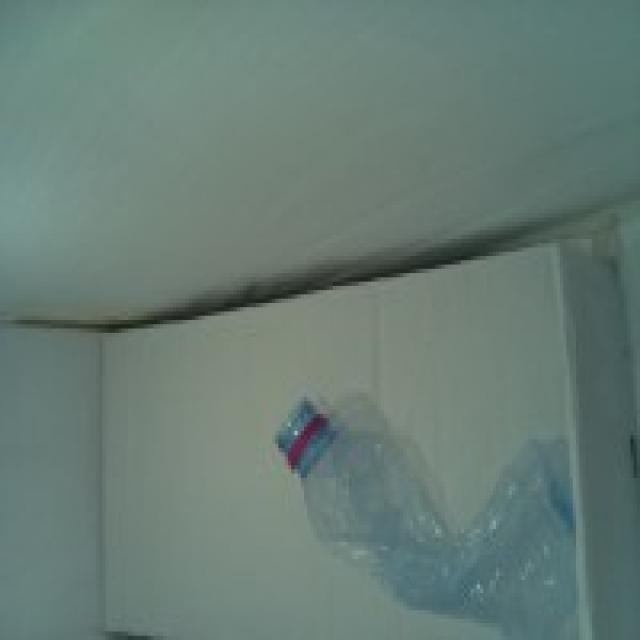bottle: (273, 395, 578, 640)
